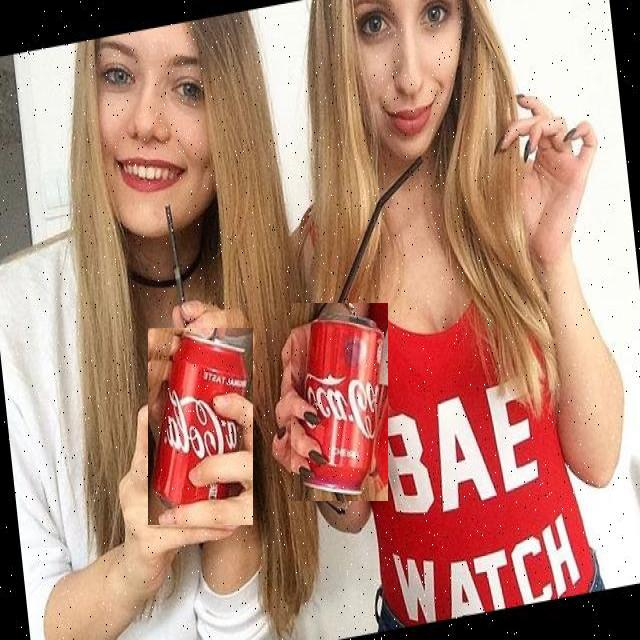coca-cola: (148, 328, 253, 525), (291, 303, 388, 501)
